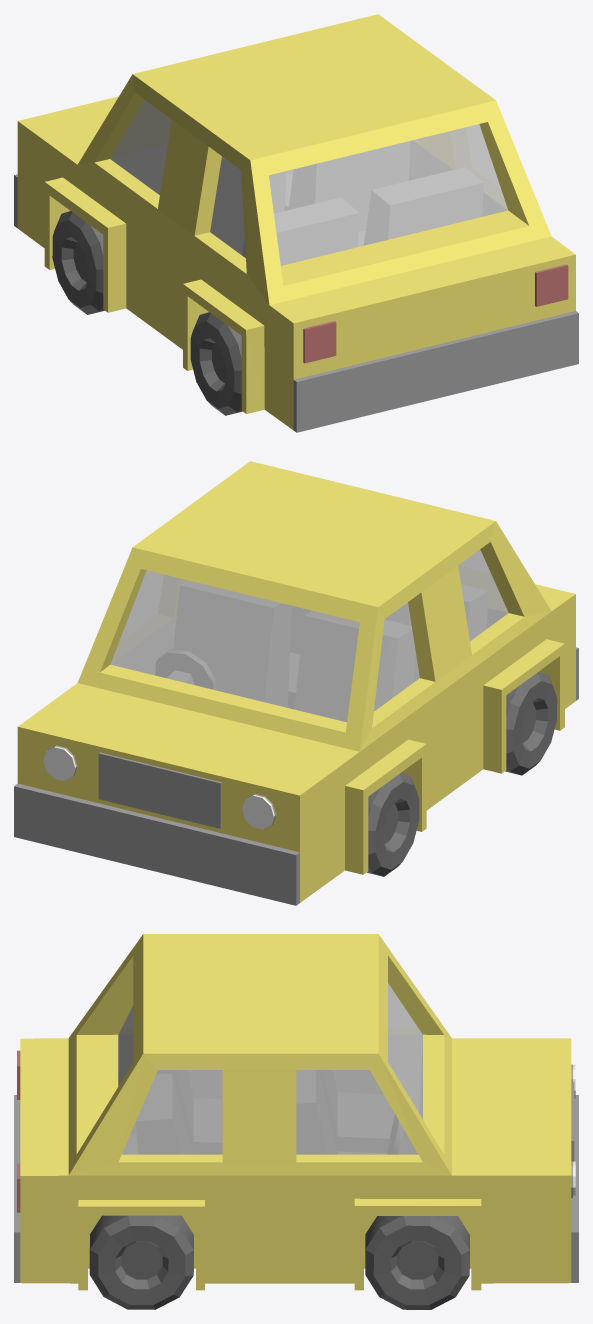
File: lowPolyCar.glb
3 views of the same model, one above another, from view 1: azimuth 30°, elevation 25°; view 2: azimuth 150°, elevation 25°; view 3: azimuth 270°, elevation 25° (orthographic).
Visible parts, largest first — view 1: 3DSMeshMatrix (×11); view 2: 3DSMeshMatrix (×13); view 3: 3DSMeshMatrix (×11).
Boxes of the visible parts, x1=… form: 3DSMeshMatrix (×11): x1=17, y1=14, x2=578, y2=432; 3DSMeshMatrix (×13): x1=14, y1=461, x2=575, y2=905; 3DSMeshMatrix (×11): x1=14, y1=934, x2=578, y2=1309.
Bounding box in the file's own units: 101 × 73.12 × 155.
